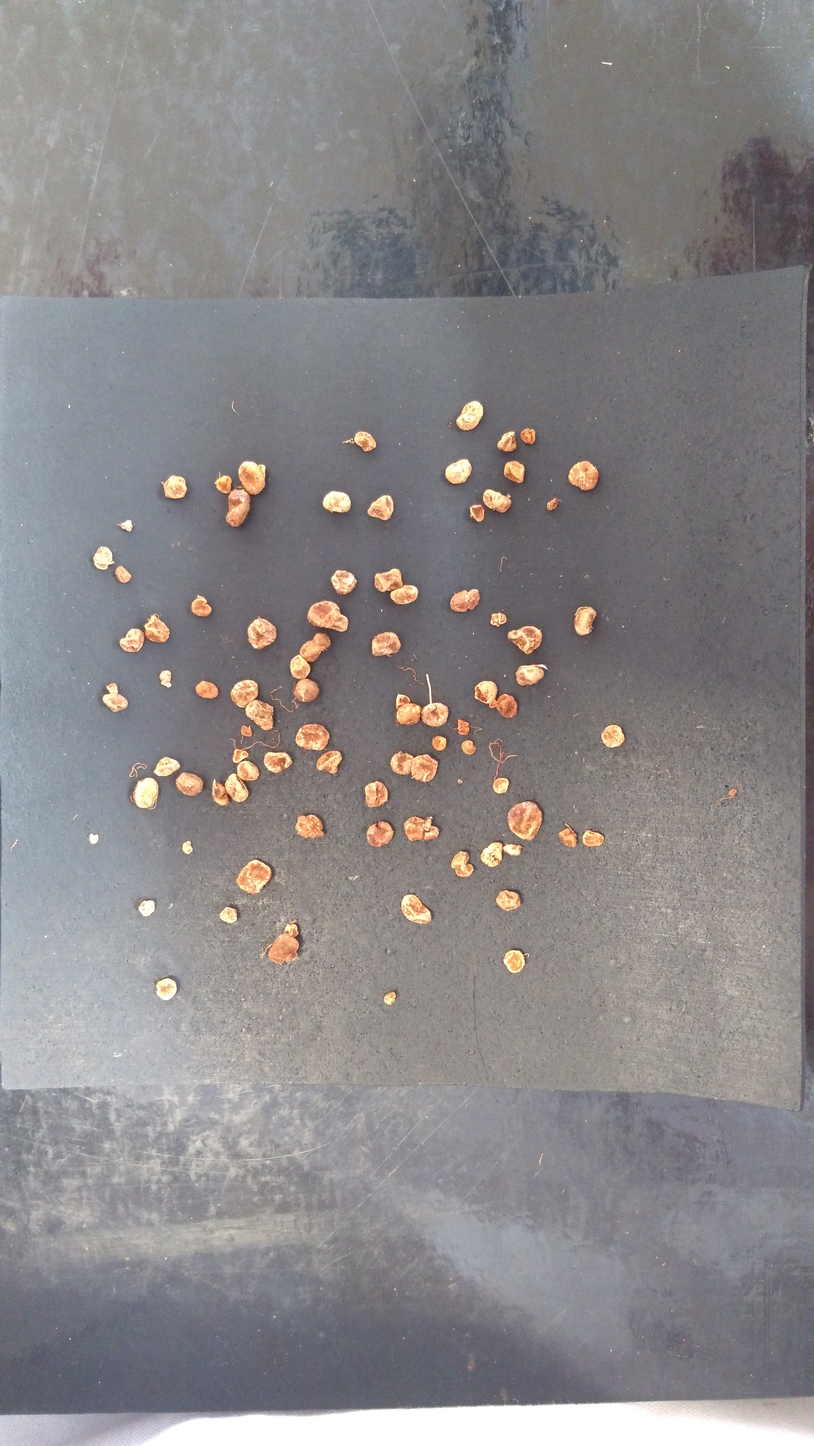nodule: (266, 917, 308, 966), (304, 596, 353, 634), (506, 798, 547, 842), (245, 612, 281, 659), (233, 858, 277, 896), (505, 623, 552, 658), (563, 455, 603, 496), (397, 890, 438, 930), (367, 627, 411, 662), (401, 812, 445, 847), (289, 809, 331, 845), (235, 457, 271, 498), (240, 696, 278, 734), (292, 722, 336, 754), (228, 676, 264, 713), (299, 630, 339, 663), (184, 588, 221, 623), (443, 455, 476, 494), (454, 396, 486, 436), (225, 487, 253, 532), (364, 816, 398, 851), (408, 751, 442, 786), (128, 775, 161, 811), (141, 608, 172, 646), (489, 886, 528, 916), (512, 661, 553, 689), (365, 490, 399, 523), (155, 472, 190, 504), (98, 681, 133, 713), (597, 720, 629, 755), (446, 585, 482, 616), (259, 747, 298, 775), (419, 697, 451, 731), (481, 484, 515, 515), (328, 566, 359, 600), (370, 563, 405, 593), (386, 580, 423, 608), (224, 769, 251, 807), (571, 603, 598, 641), (114, 624, 146, 656), (170, 770, 207, 797), (500, 942, 529, 976), (319, 489, 356, 515), (292, 674, 322, 706), (311, 748, 344, 777), (286, 653, 318, 682), (352, 427, 380, 460), (386, 746, 415, 777), (472, 676, 500, 708), (448, 848, 476, 880), (150, 753, 183, 780), (493, 691, 522, 721), (153, 972, 181, 1003), (395, 699, 423, 730), (364, 779, 390, 812), (194, 676, 223, 705), (501, 457, 529, 486), (206, 776, 230, 809), (88, 543, 115, 572), (478, 840, 504, 869), (234, 758, 261, 785), (495, 427, 519, 455), (556, 825, 580, 853), (136, 897, 165, 920), (580, 827, 608, 850), (517, 425, 542, 448), (217, 906, 245, 926), (154, 668, 176, 693), (429, 729, 450, 754), (489, 775, 512, 797), (466, 500, 486, 525), (392, 690, 415, 711), (542, 494, 562, 518), (213, 472, 233, 496), (379, 987, 400, 1009), (114, 516, 138, 534), (500, 840, 524, 858), (179, 836, 198, 858), (458, 738, 478, 758), (237, 721, 255, 742), (454, 716, 471, 738), (232, 746, 251, 765), (114, 563, 131, 584), (488, 611, 509, 628), (87, 830, 101, 845), (455, 776, 466, 786)
